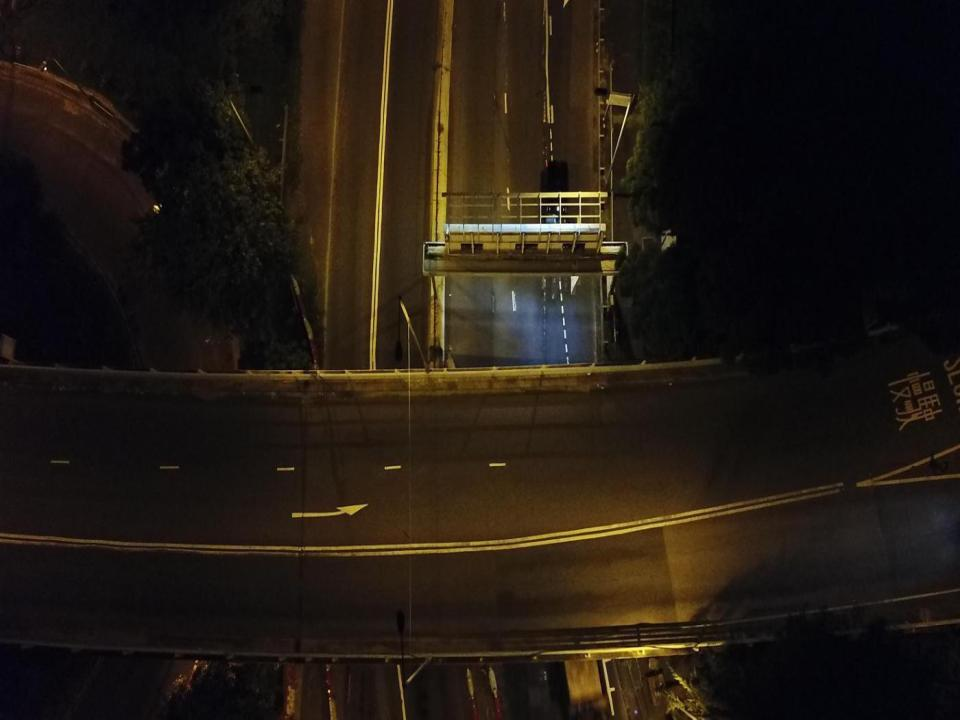car: (544, 162, 570, 246)
truck: (556, 573, 610, 710)
